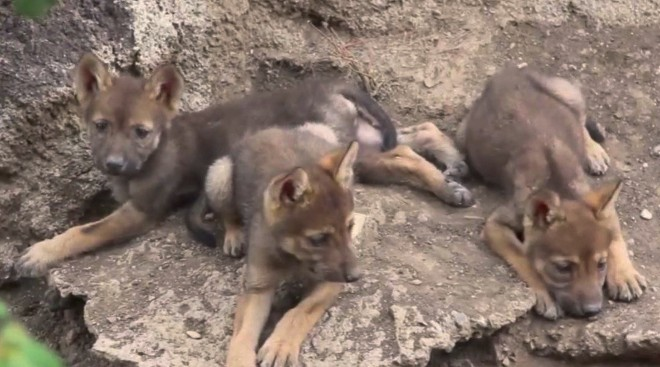Lobo: (450, 57, 655, 320), (218, 131, 385, 344), (54, 44, 200, 241)
